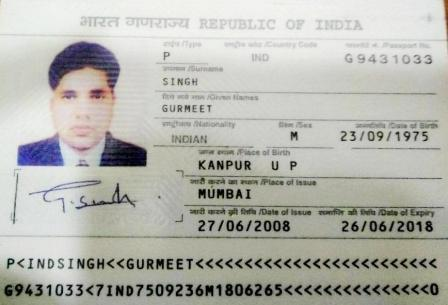DOB: (333, 130, 439, 143)
Surname: (160, 73, 208, 89)
country_code: (246, 50, 280, 67)
date_of_expiry: (335, 217, 441, 233)
date_of_issue: (194, 217, 295, 235)
details: (5, 248, 441, 298)
name: (159, 100, 212, 115)
nationality: (167, 130, 212, 144)
passport_no: (343, 51, 439, 67)
place_of_birth: (190, 155, 303, 172)
place_of_issue: (193, 187, 259, 202)
sex: (284, 129, 302, 142)
sign: (39, 172, 146, 229)
type: (158, 47, 177, 66)
